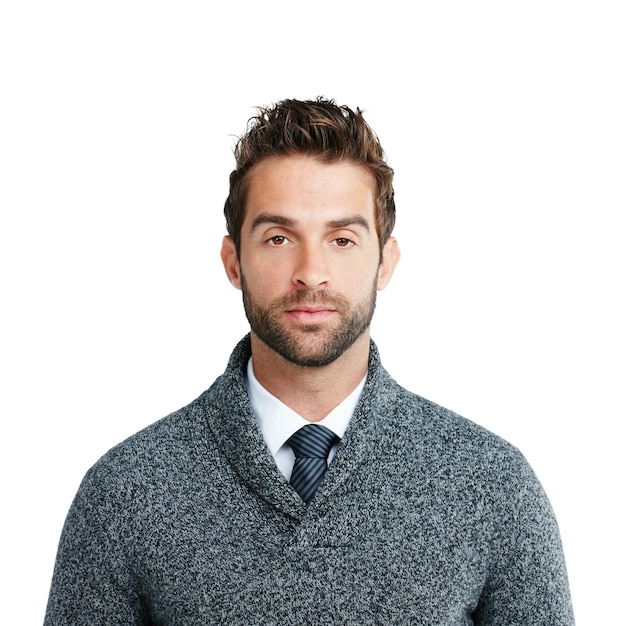young: (208, 95, 404, 359)
